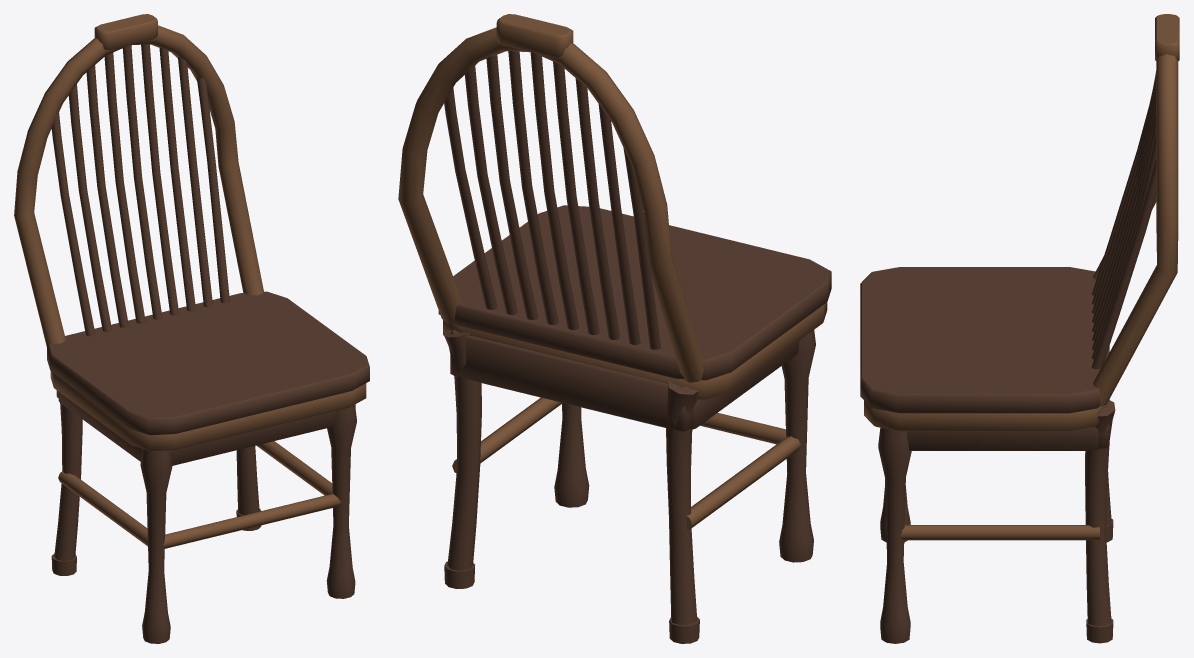
Rendered from rpg-mansion-windsor-bow-01.glb.
3 views of the same model, side by side, from view 1: azimuth 30°, elevation 25°; view 2: azimuth 150°, elevation 25°; view 3: azimuth 270°, elevation 25° (orthographic). The views are drawn at different scales.
Visible parts, largest first — view 1: rpg-mansion-windsor-bow-01; view 2: rpg-mansion-windsor-bow-01; view 3: rpg-mansion-windsor-bow-01.
Boxes of the visible parts, x1,y1,x2,y2 form: rpg-mansion-windsor-bow-01: (14,14,369,643); rpg-mansion-windsor-bow-01: (398,14,831,643); rpg-mansion-windsor-bow-01: (860,14,1179,643).
Size of the model in its own units: 0.494 by 1 by 0.518.
